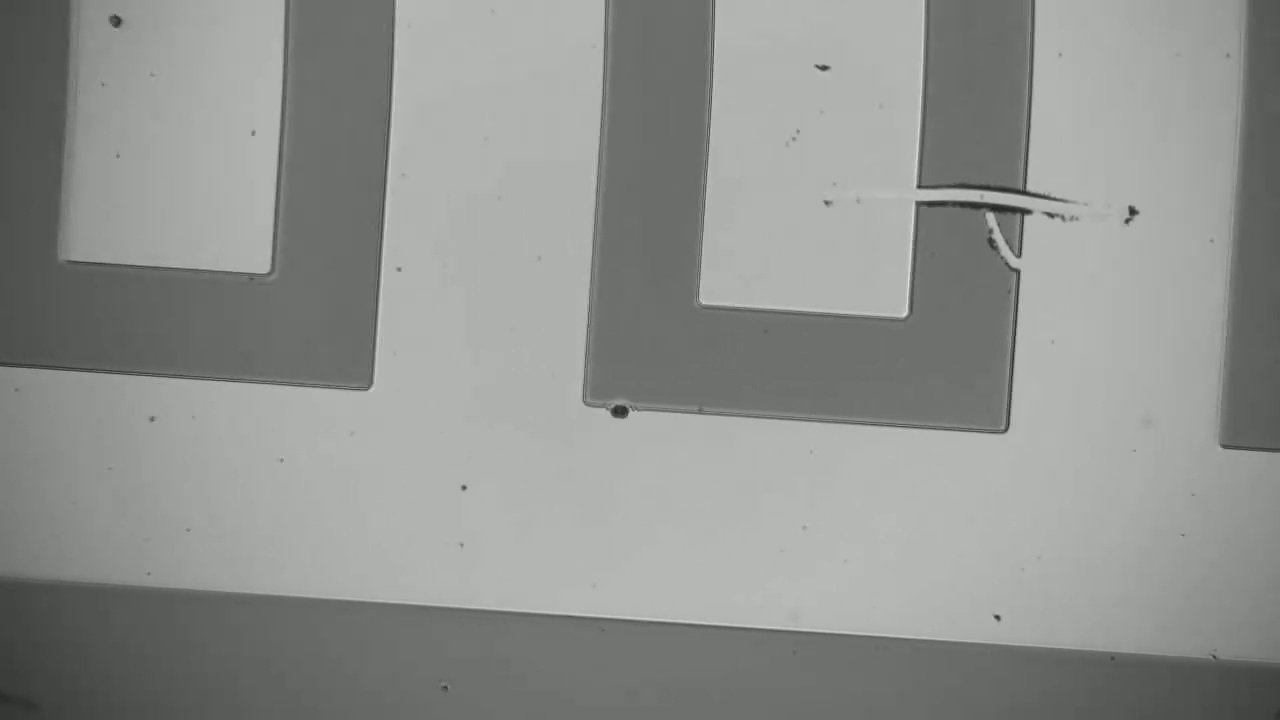Short_circuit: (886, 163, 1053, 228)
